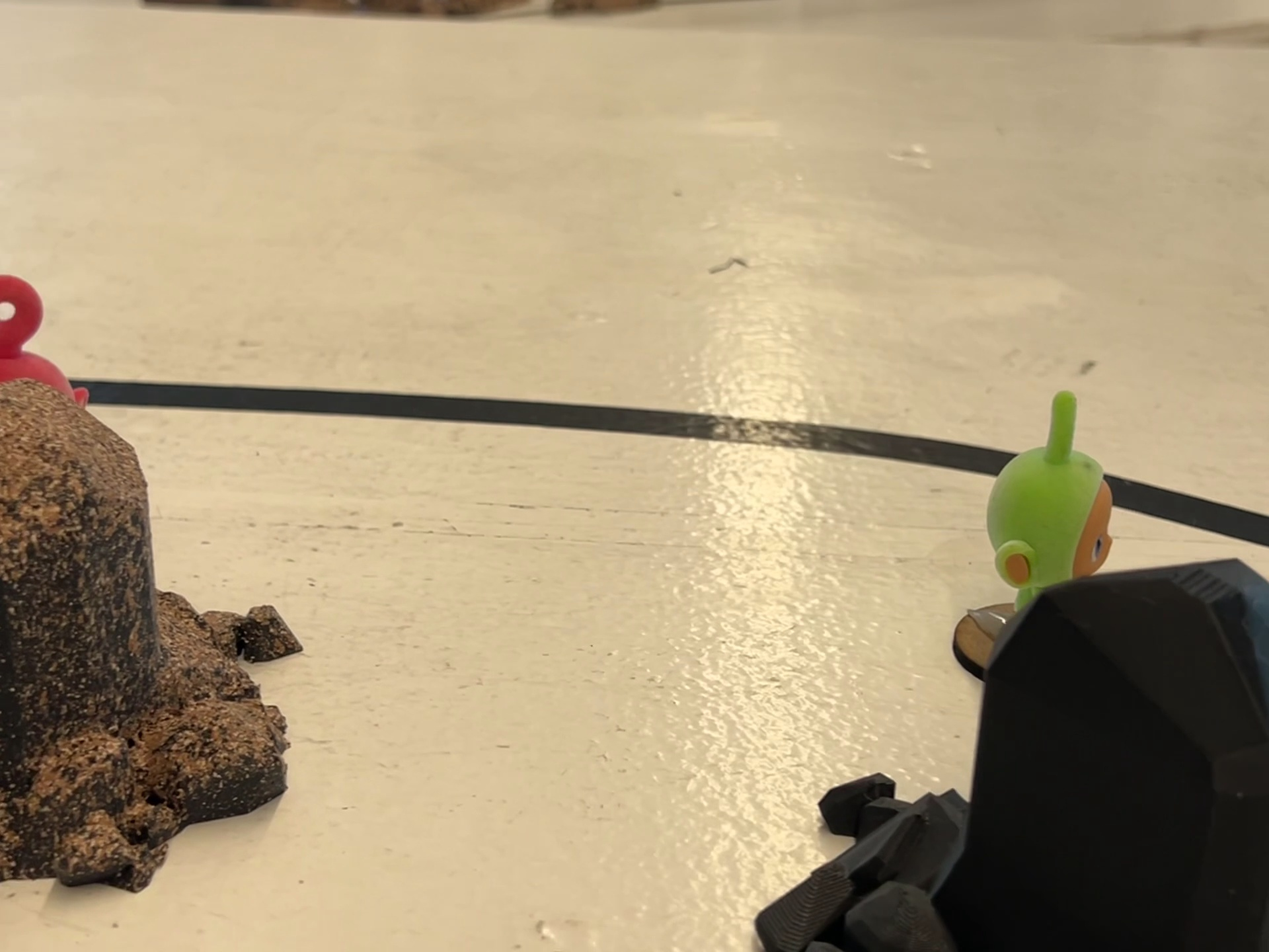teletubby: (987, 391, 1113, 611), (0, 275, 88, 407)
